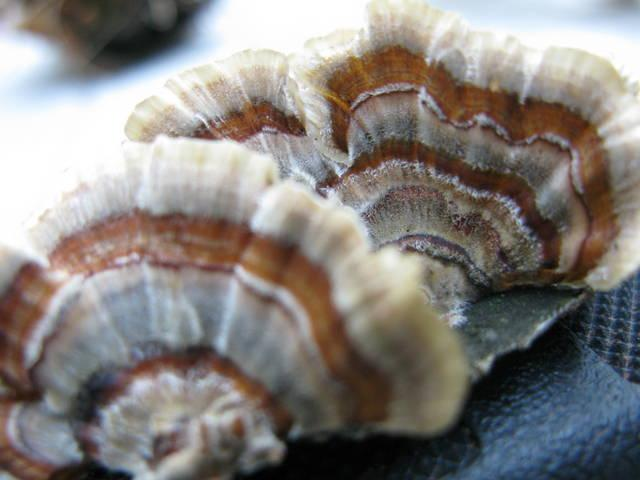poisonous_mushroom: (0, 133, 473, 478), (123, 0, 638, 300)
